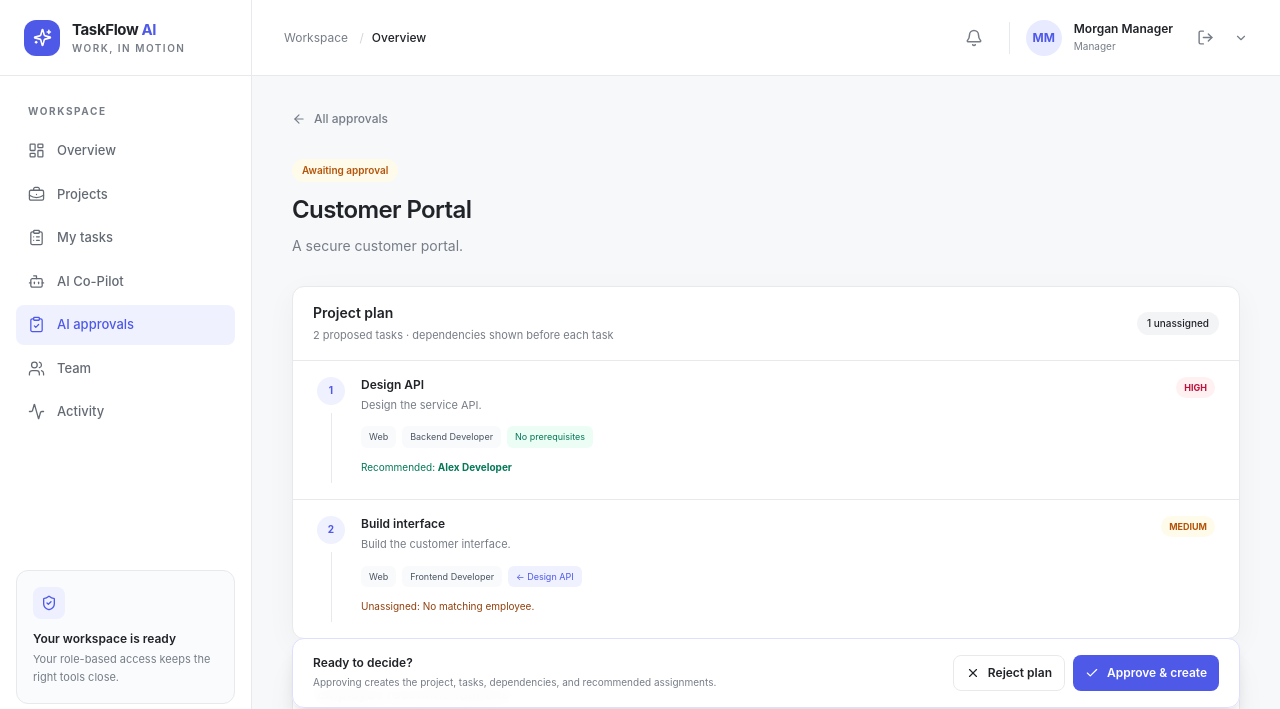
it: manager dashboard flows › approves a plan once and shows the created project state
Click the button "Approve & create". click: [1146, 673]
box: [1073,655,1219,691]
(page scrolled)
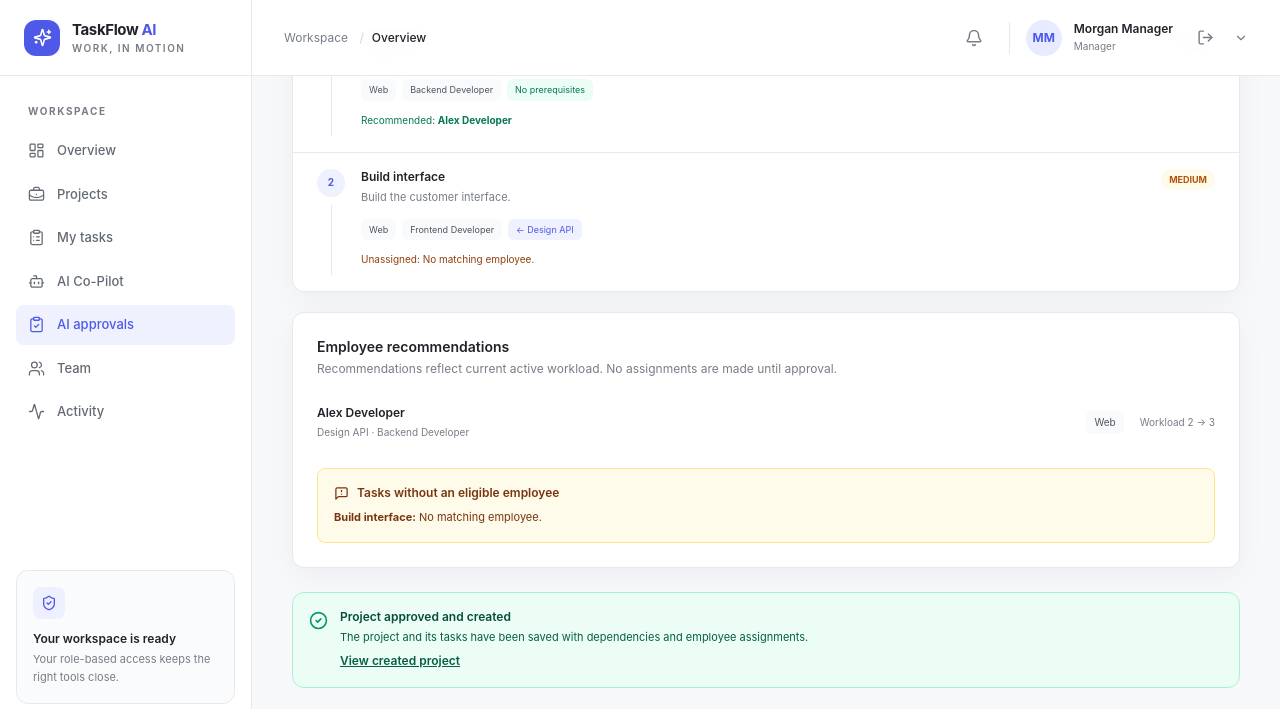
Now the text "Project approved and created" is shown, box [340,609,511,624]
